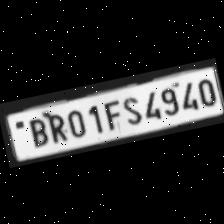0: (61, 104, 88, 140), (192, 72, 218, 106)
1: (82, 100, 104, 136)
4: (137, 85, 163, 121), (174, 76, 198, 112)
9: (154, 82, 180, 117)
B: (22, 113, 48, 148)
F: (98, 96, 123, 131)
R: (42, 108, 67, 144)
S: (118, 91, 143, 125)
